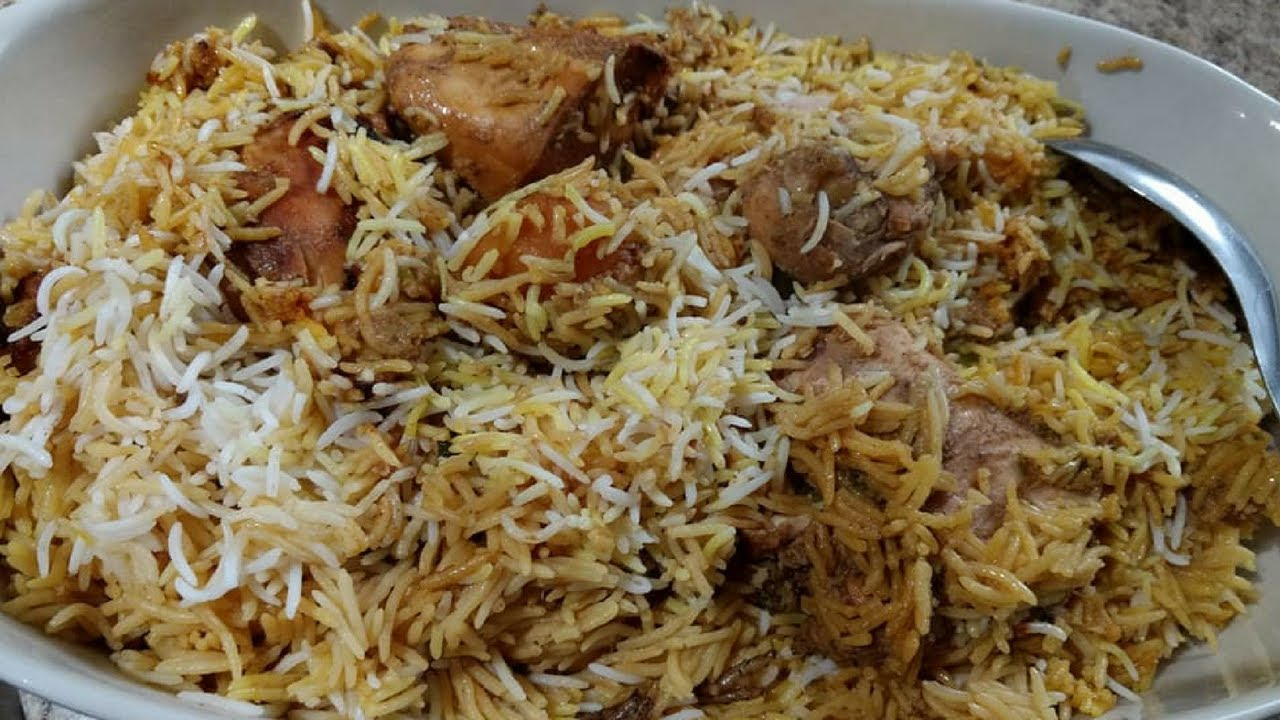Biryani: (35, 38, 1261, 696)
